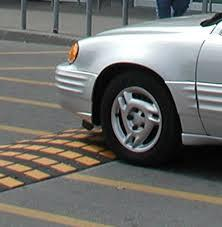Bump: (0, 123, 126, 197)
